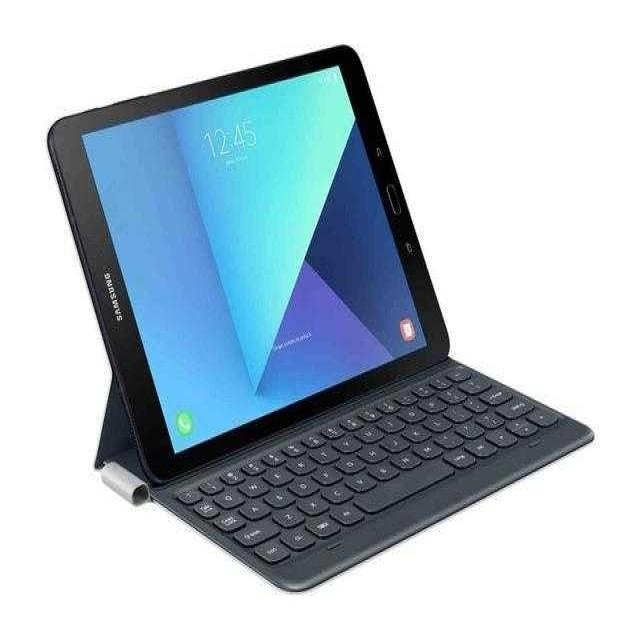keyboard: (164, 359, 598, 594)
